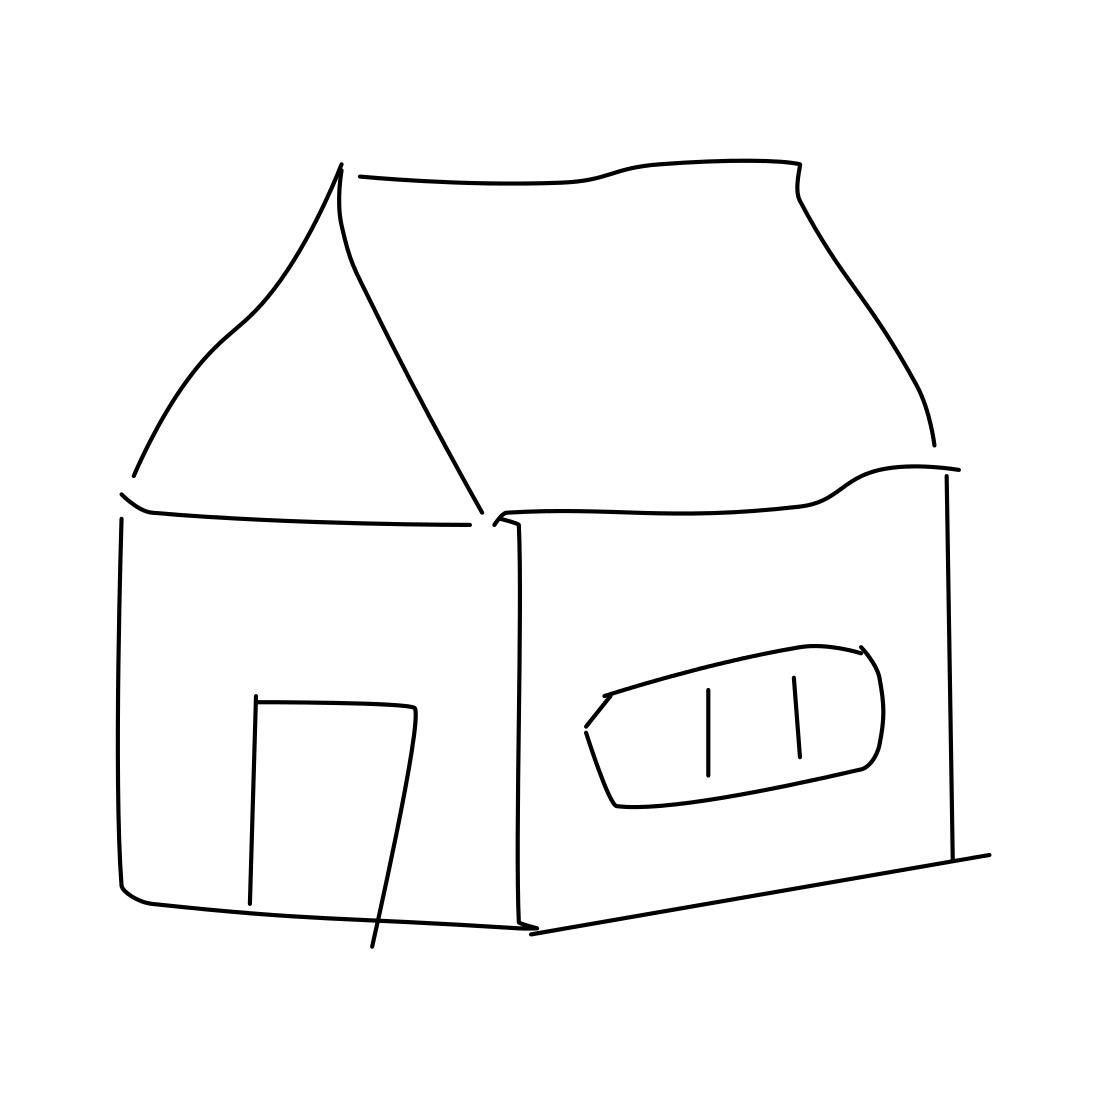door: (238, 687, 421, 956)
house: (114, 161, 990, 938)
roof: (86, 141, 982, 543)
wall: (99, 481, 988, 960)
window: (565, 632, 898, 815)
